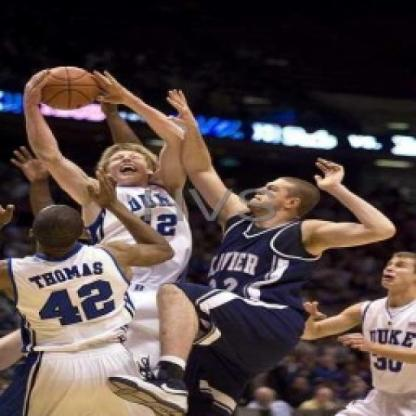basketball: (35, 63, 104, 113)
